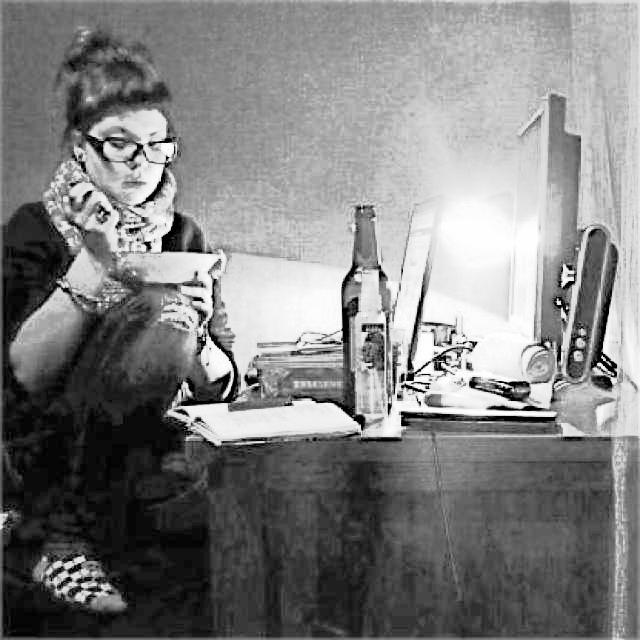Person: (0, 18, 238, 618)
